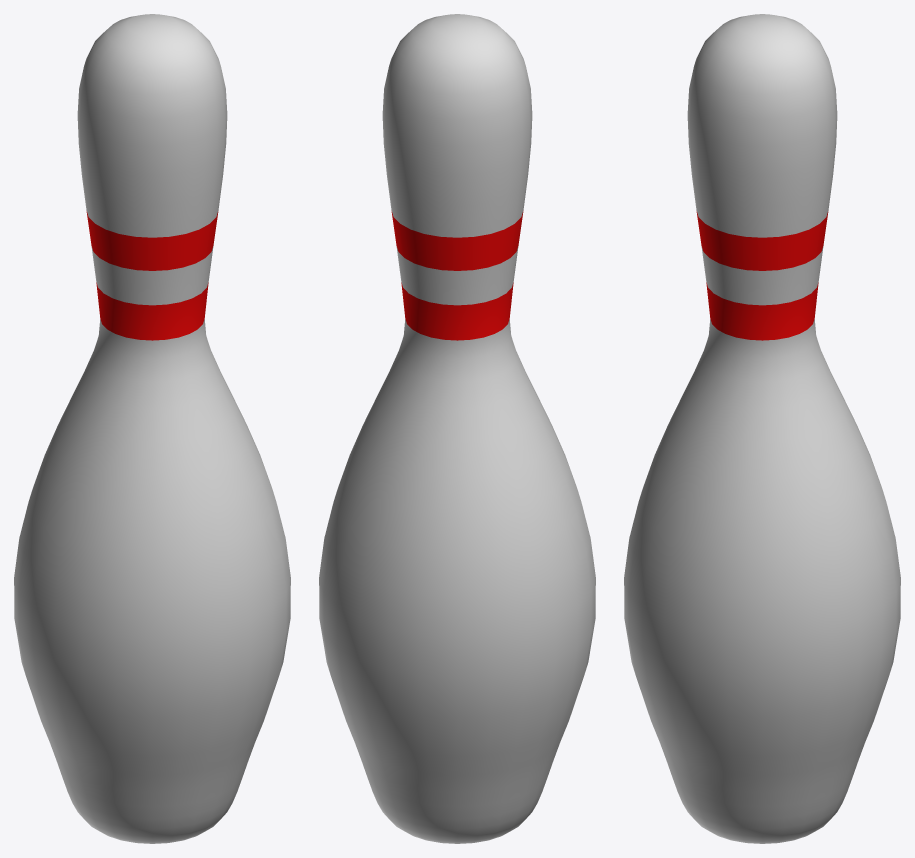
The picture shows the model from 3 angles, left to right: view 1: azimuth 30°, elevation 25°; view 2: azimuth 150°, elevation 25°; view 3: azimuth 270°, elevation 25°; orthographic projection.
Parts seen in each view (by area): view 1: pin; view 2: pin; view 3: pin.
Boxes of the visible parts, bbox=[...] form: pin: bbox=[14, 14, 290, 843]; pin: bbox=[319, 14, 595, 843]; pin: bbox=[624, 14, 900, 843].
Bounding box in the file's own units: 0.1184 × 0.38 × 0.1184.
